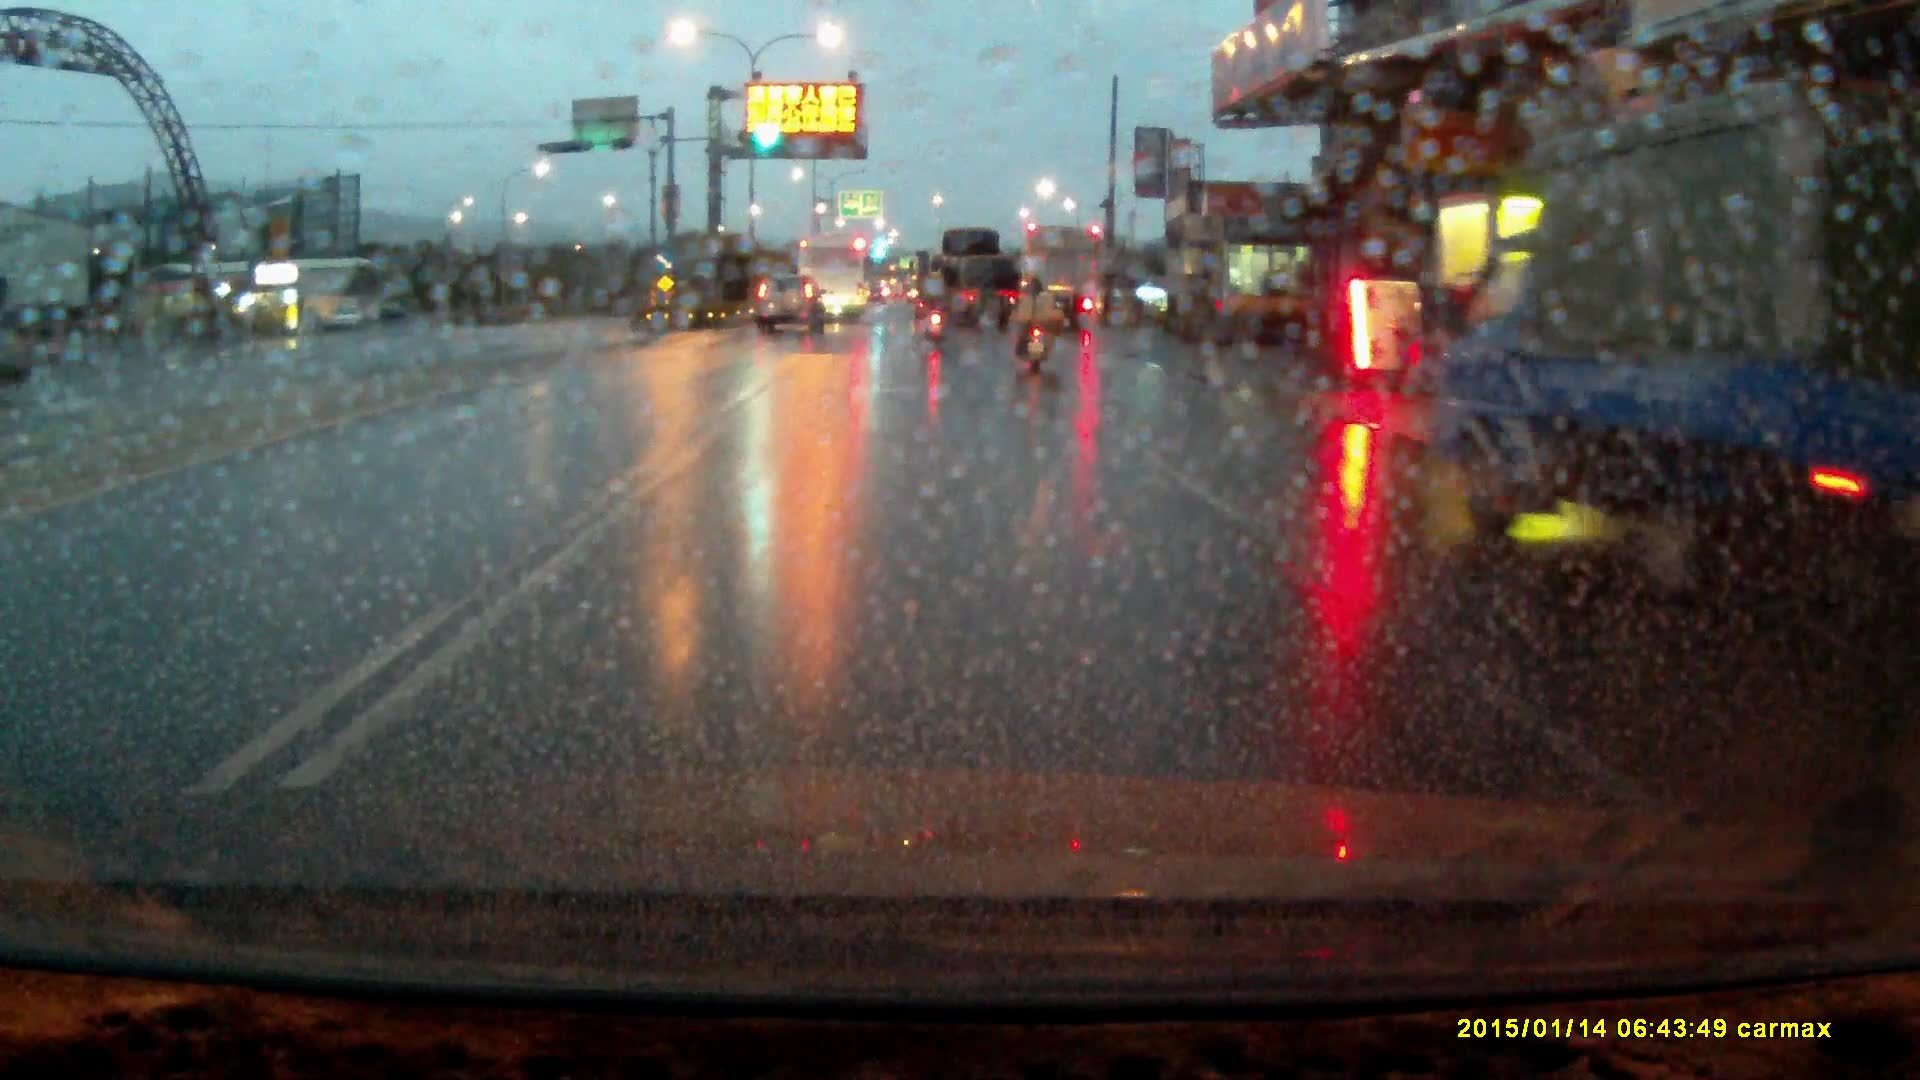rider: (1015, 273, 1053, 375), (923, 278, 947, 347)
vehicle: (1427, 76, 1905, 585), (928, 231, 1024, 344), (1023, 229, 1107, 332), (797, 235, 872, 329), (756, 277, 823, 340)
